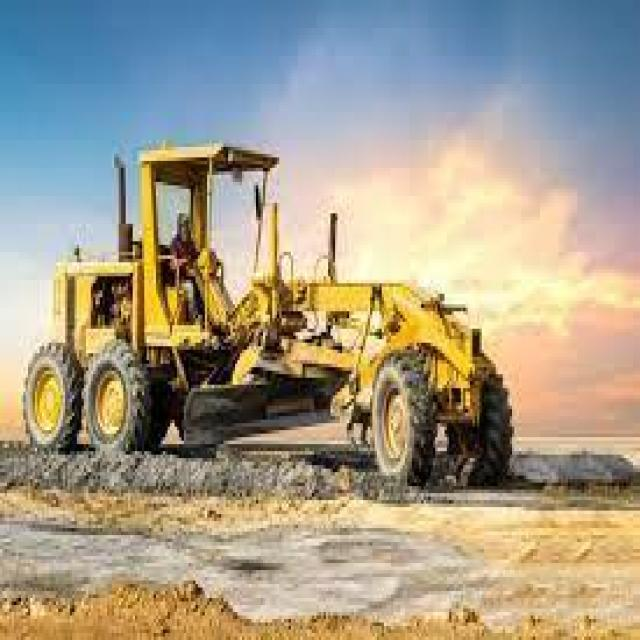Grader: (12, 123, 514, 514)
